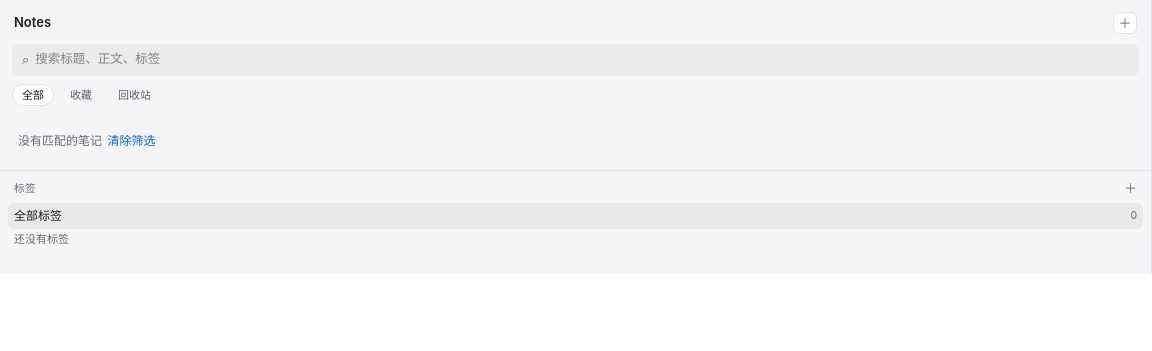
Test: Sidebar filters › swaps the note list for the trash view and back
The width and height of the screenshot is (1152, 351).
Click the button with class "chip" showing "回收站". click: point(134, 95)
box: [108,84,161,106]
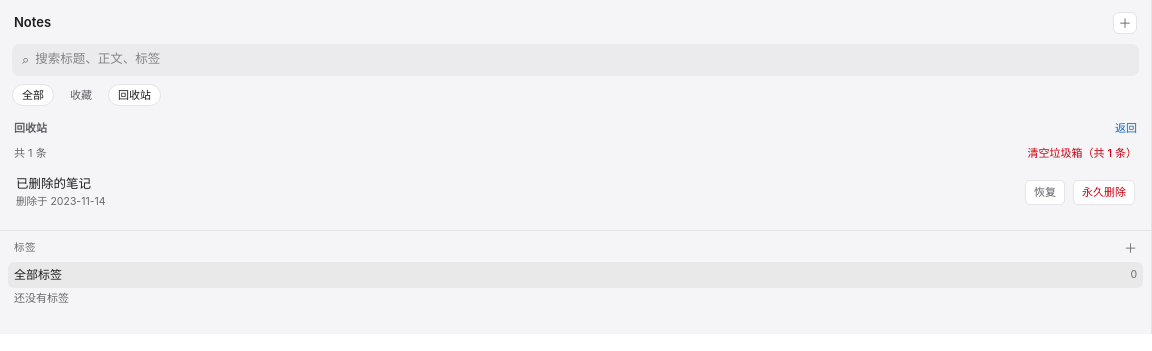
Check: the text "已删除的笔记" is shown, box [16,176,91,191]
Click the button "返回". click: point(1126, 128)
box: [1115,120,1137,136]
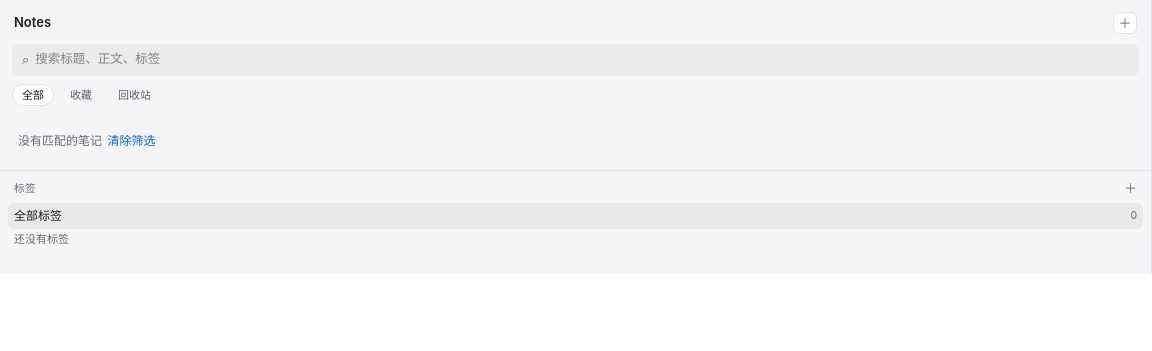
Check: the list is shown, box [18,132,157,150]
